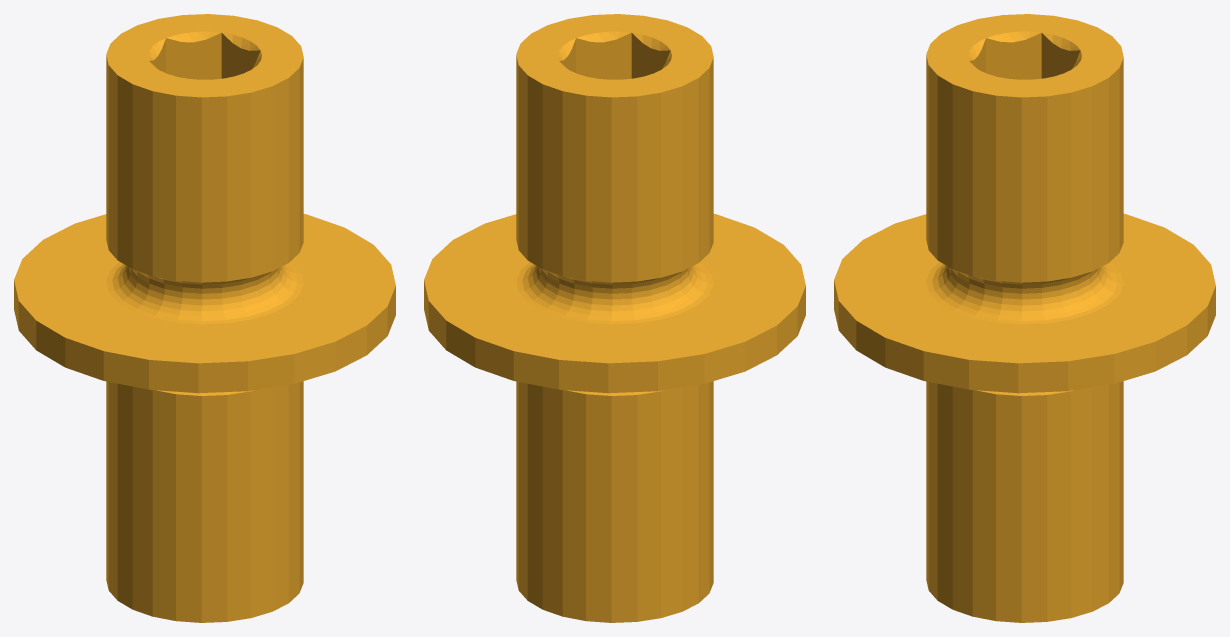
The model's file is kria_kv_260_JSOM_T_XX_XX_XX_1_SOLID1_1_JSOM_T_XX_XX_XX_1_SOLID1_1.obj.
The picture shows the model from 3 angles, left to right: view 1: azimuth 30°, elevation 25°; view 2: azimuth 150°, elevation 25°; view 3: azimuth 270°, elevation 25°; orthographic projection.
Bounding box in the file's own units: 0.0058 × 0.0088 × 0.0058.
